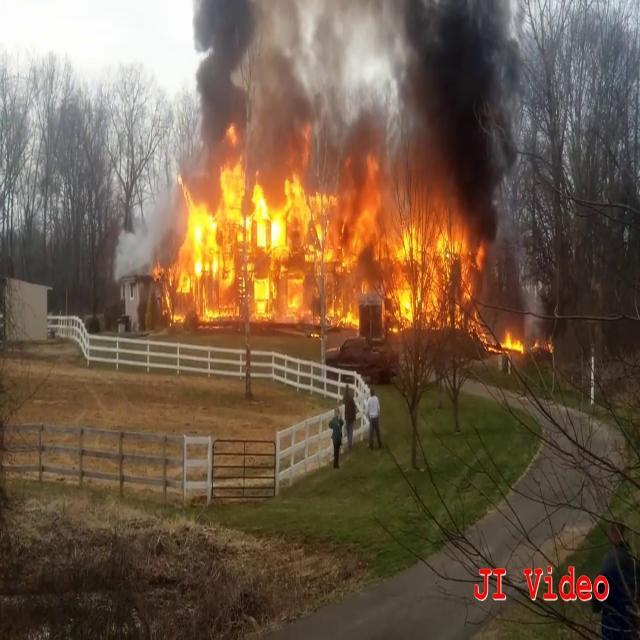Fire: (162, 148, 484, 336), (488, 326, 546, 358)
Smoke: (383, 1, 543, 227), (174, 0, 370, 172)
